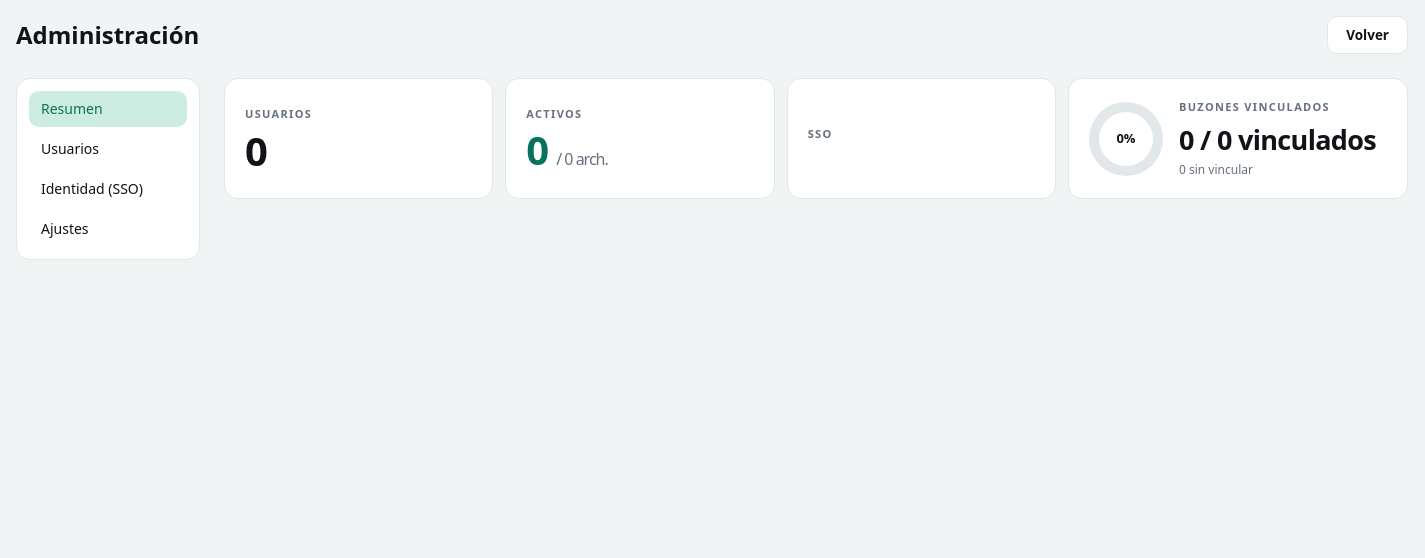
Scenario: the admin console explains WHY an action was refused (GH #46) › still says something for a failure that carries no code
The width and height of the screenshot is (1425, 558).
Click the button "Usuarios" at (108, 149), box [29,131,187,167]
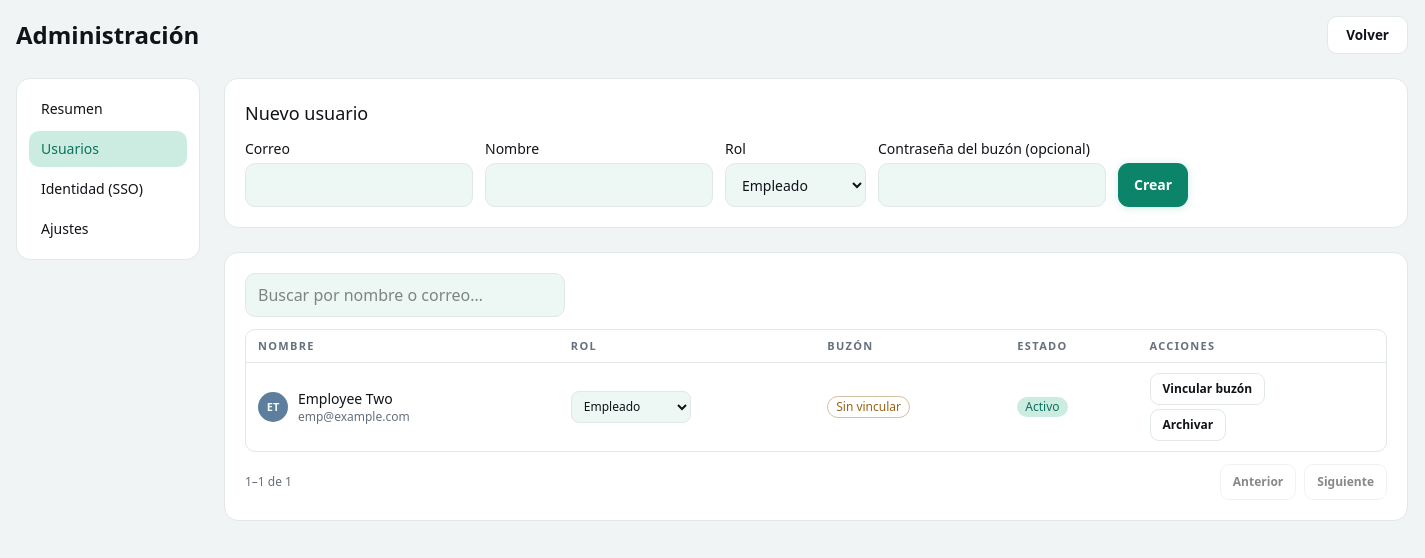
Select "Administrador" in the dropdown named "Rol" at (631, 407), box [571,391,691,423]
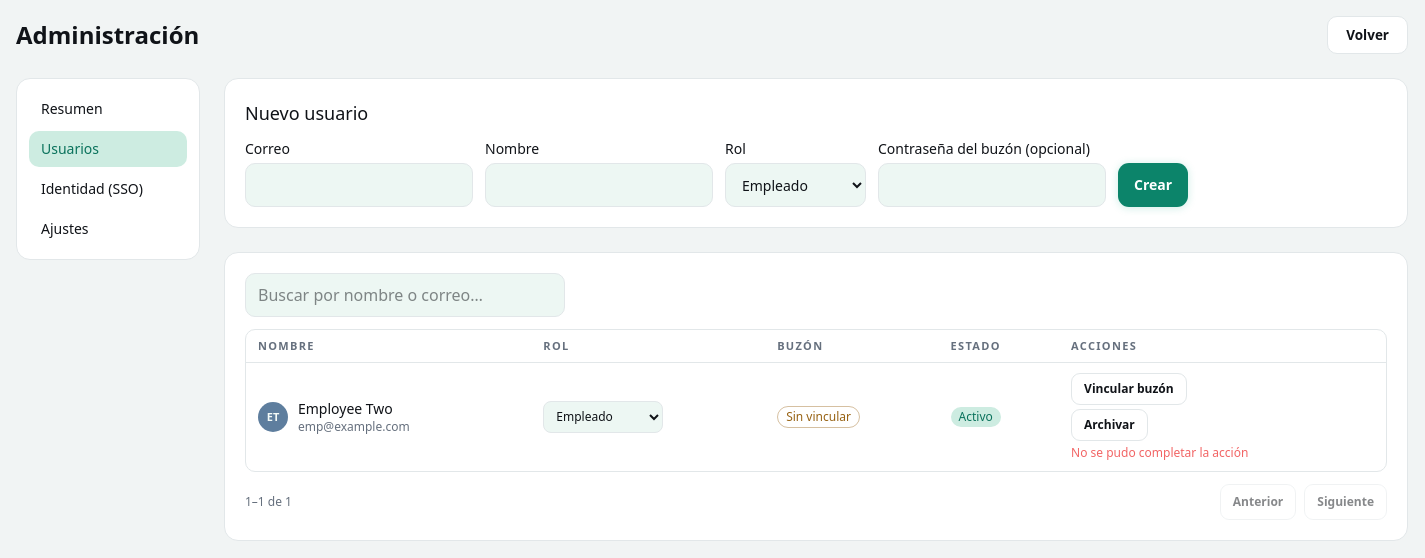
Now the text "No se pudo completar la acción" is shown, box [1071,445,1248,461]
